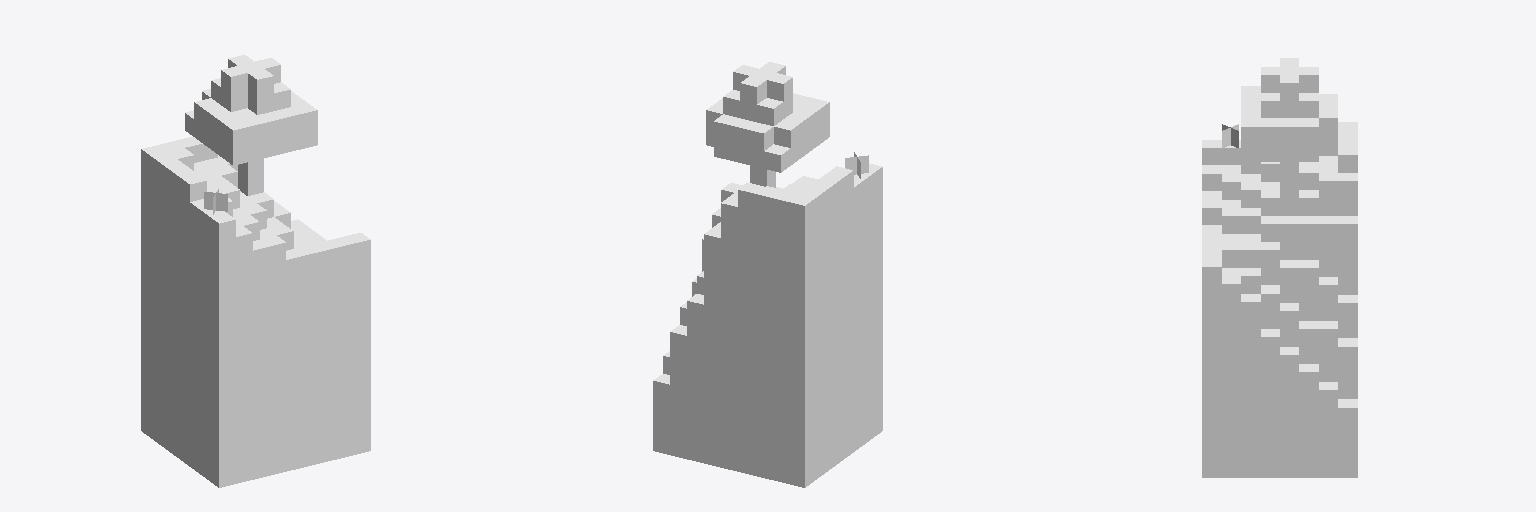
File: tree_tri.obj
3 renders of one model, left to right at view 1: azimuth 30°, elevation 25°; view 2: azimuth 150°, elevation 25°; view 3: azimuth 270°, elevation 25°, orthographic.
Parts seen in each view (by area): view 1: tipe-amplified__-944_72_-476_to_-936_170_-469; view 2: tipe-amplified__-944_72_-476_to_-936_170_-469; view 3: tipe-amplified__-944_72_-476_to_-936_170_-469.
Part boxes in pixels (bbox=[...]): tipe-amplified__-944_72_-476_to_-936_170_-469: bbox=[141, 55, 370, 487]; tipe-amplified__-944_72_-476_to_-936_170_-469: bbox=[653, 62, 882, 487]; tipe-amplified__-944_72_-476_to_-936_170_-469: bbox=[1202, 58, 1357, 477].
Size of the model in its own units: 1.35 by 3.15 by 1.2.